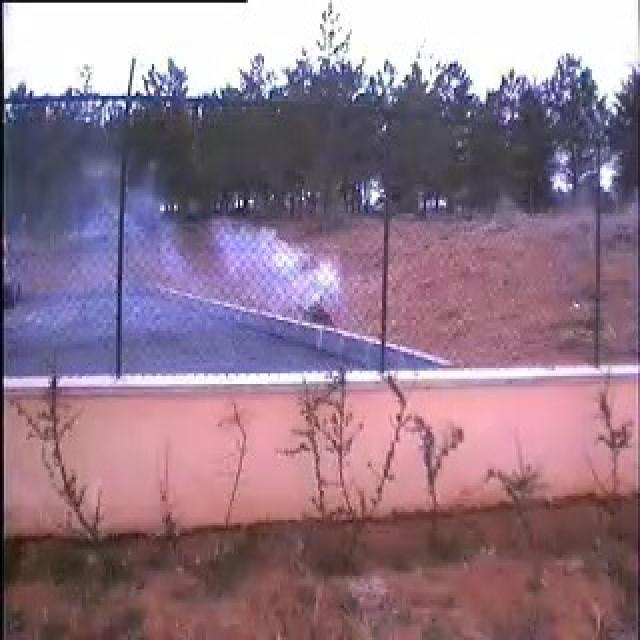smoke: (50, 170, 343, 372)
